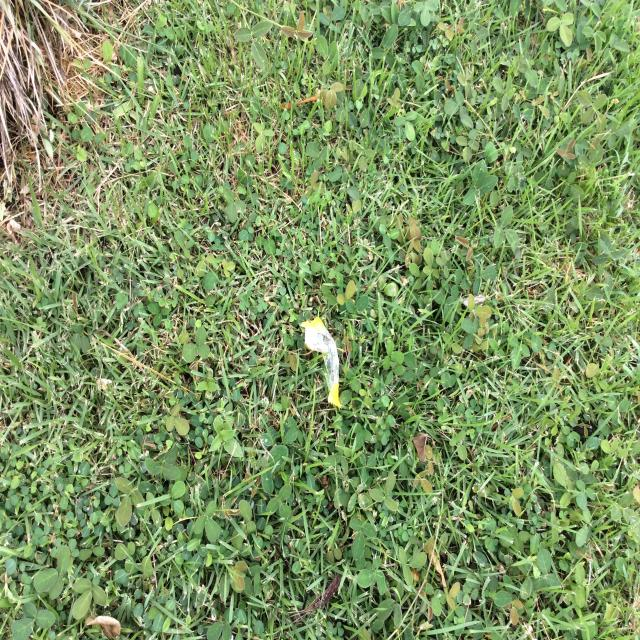litter: (285, 315, 359, 411)
